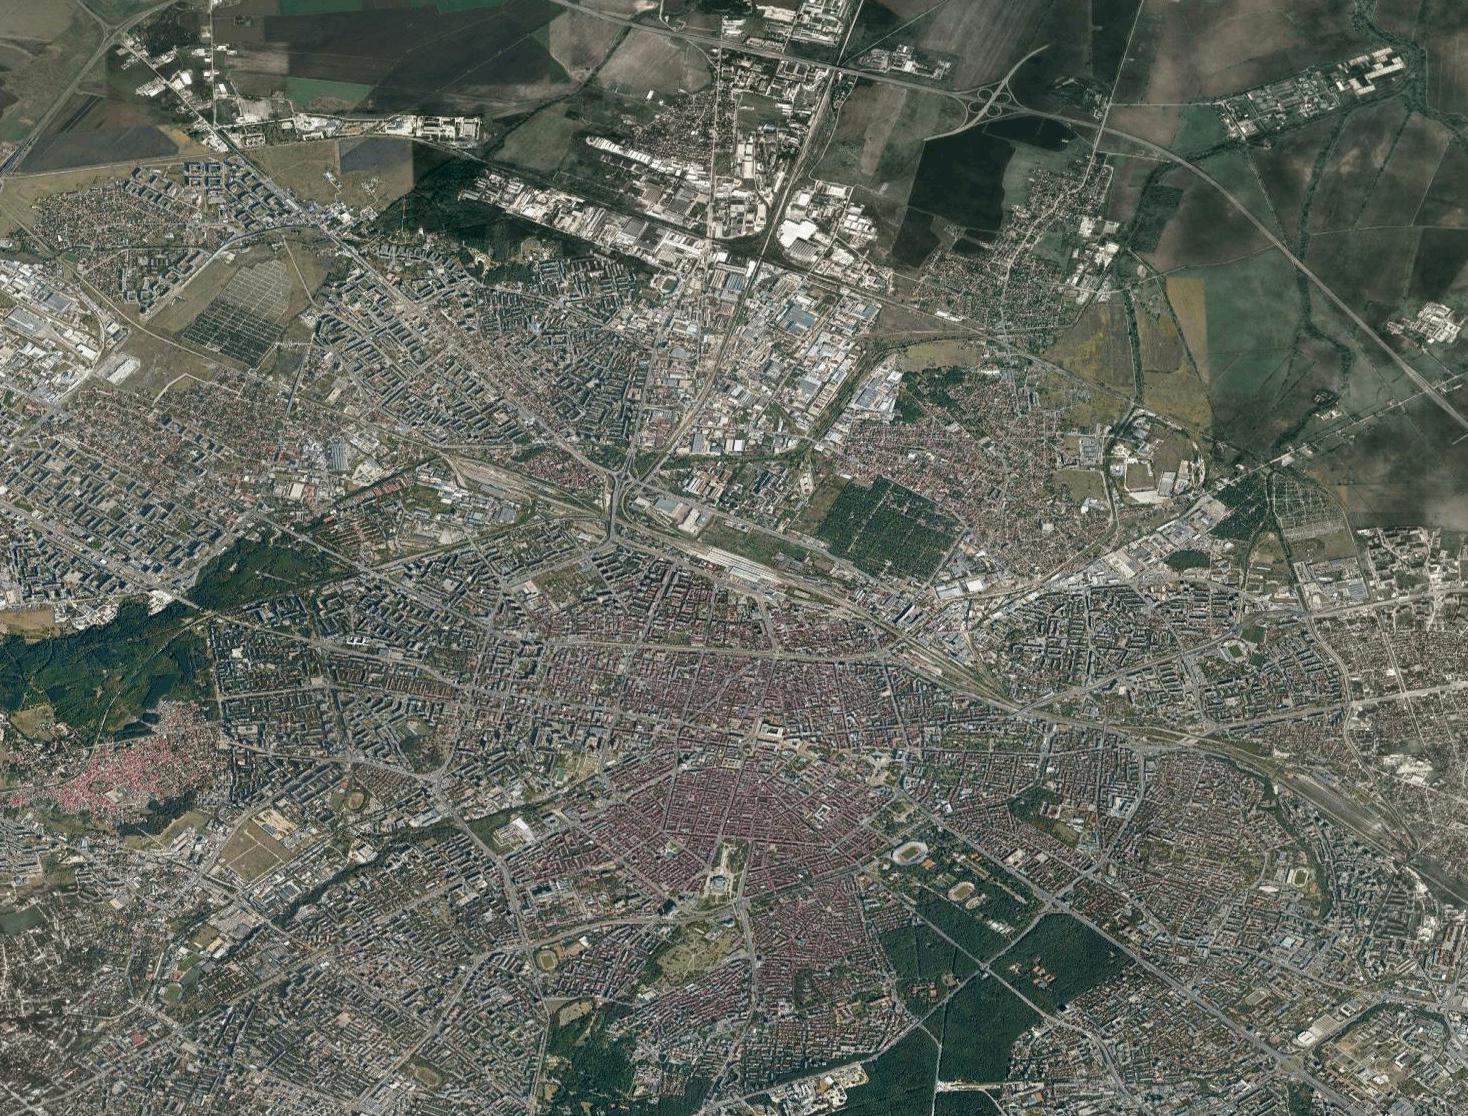industrial: (647, 452, 821, 532)
train_station: (672, 536, 798, 594)
